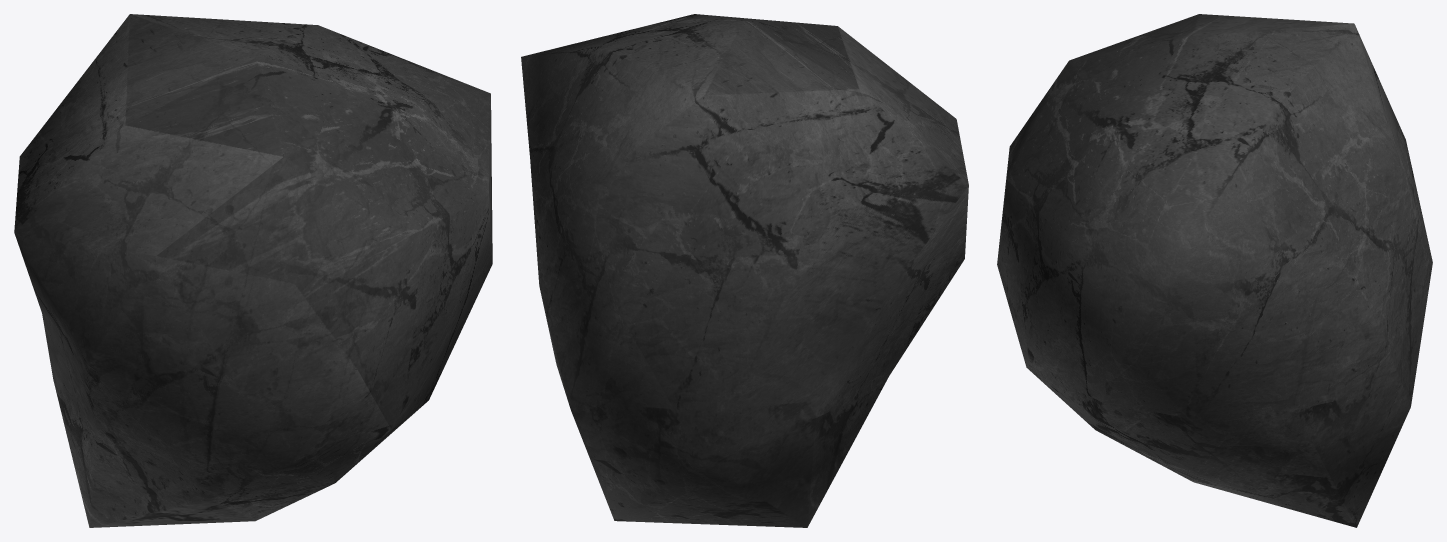
The model's file is GolemBlock.fbx.
3 renders of one model, left to right at view 1: azimuth 30°, elevation 25°; view 2: azimuth 150°, elevation 25°; view 3: azimuth 270°, elevation 25°, orthographic. The views are drawn at different scales.
Visible parts, largest first — view 1: Icosphere; view 2: Icosphere; view 3: Icosphere.
Part boxes in pixels (box(x1,y1,x2,y2)): Icosphere: box(14, 14, 492, 527); Icosphere: box(521, 14, 968, 527); Icosphere: box(997, 14, 1432, 527).
Bounding box in the file's own units: 2.7 × 2.62 × 2.21.
